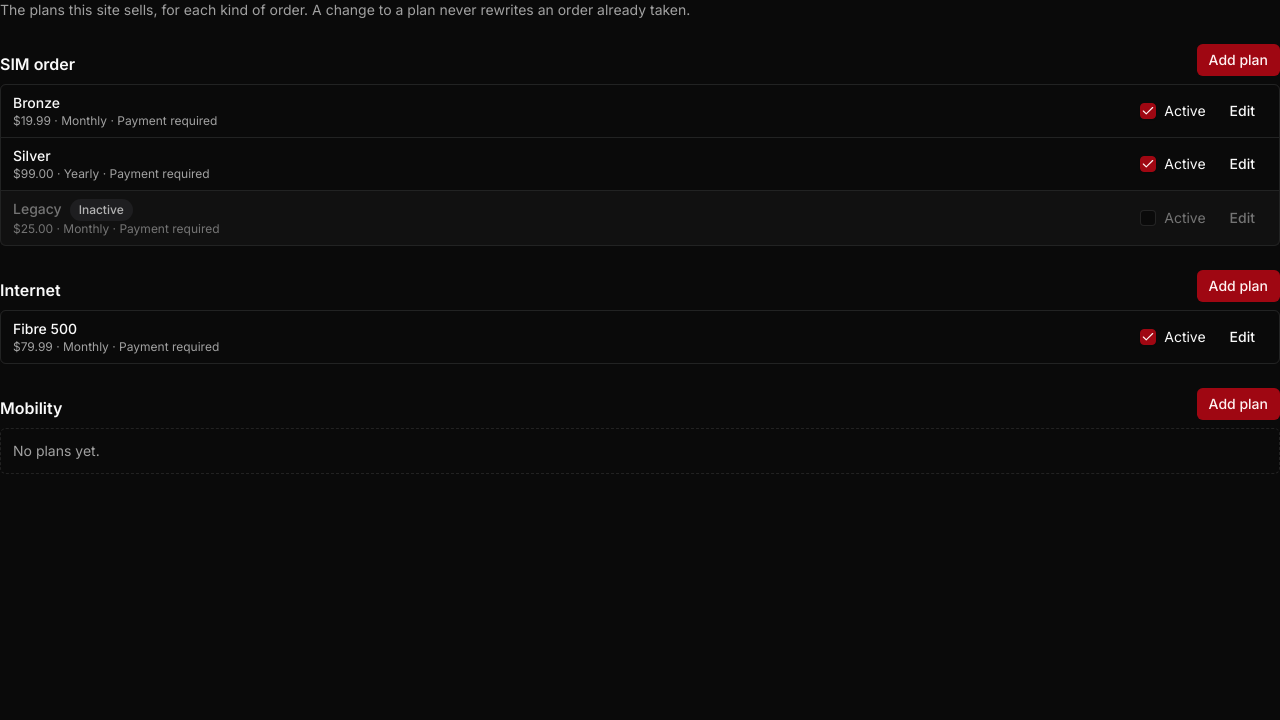
Test: PlansSettings writes › adds a plan for the type with the price in cents, then reloads
Expected: the list named "SIM order plans" is shown, [0, 84, 1279, 246]
Step 1. Click the button with aria-label "Add Internet plan" → (1238, 286), box [1197, 270, 1279, 302]
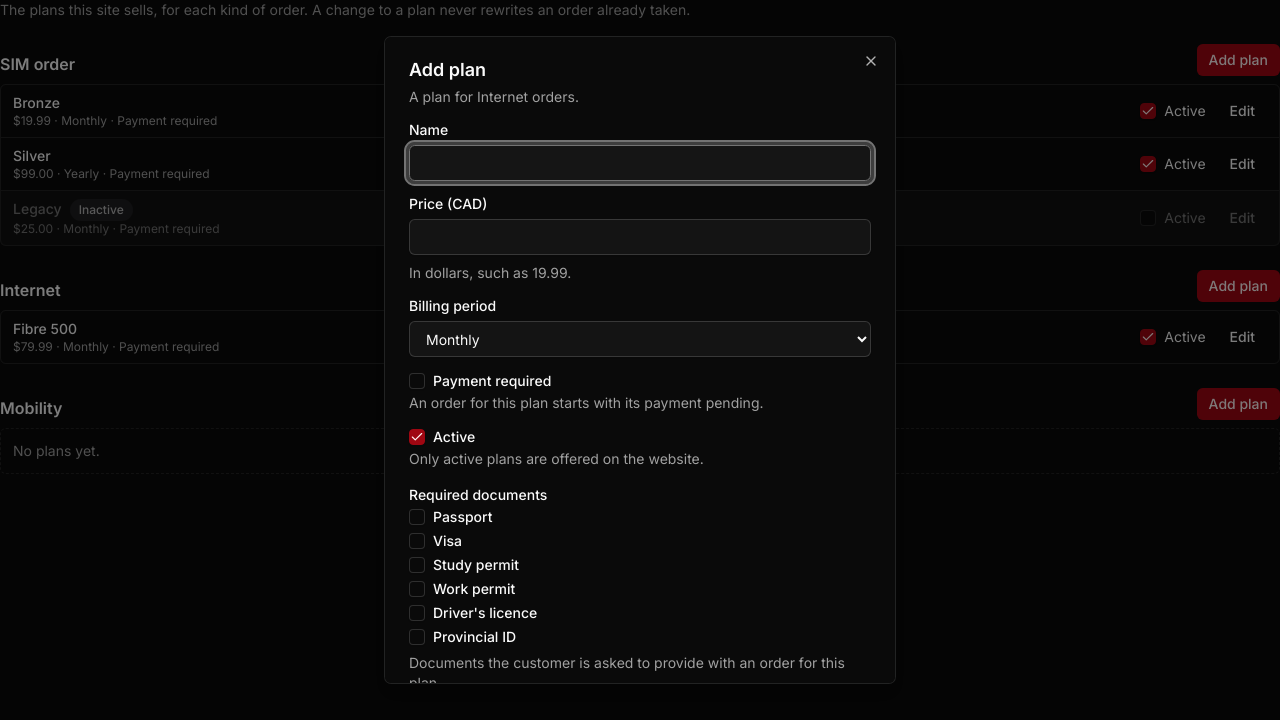
Step 2. Type "Fibre 1G" into the field labelled "Name" → (640, 163), box [409, 145, 871, 181]
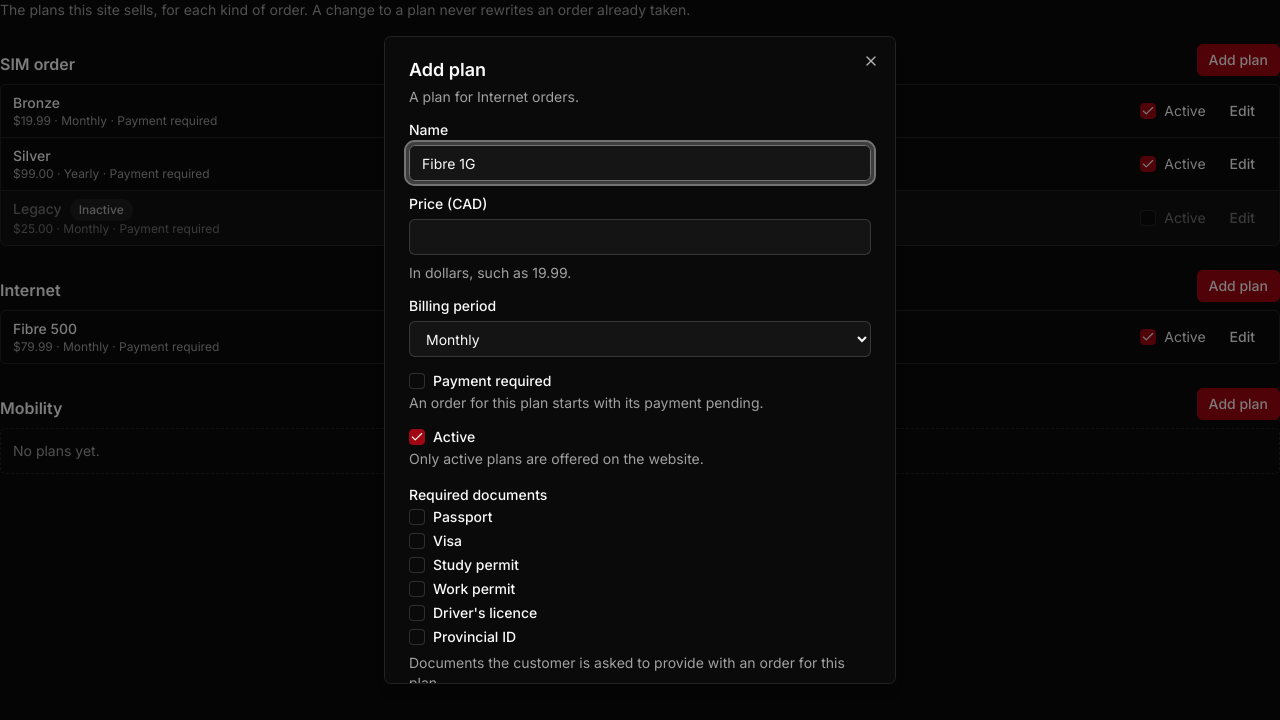
Step 3. Type "89.5" into the field labelled "Price (CAD)" → (640, 237), box [409, 219, 871, 255]
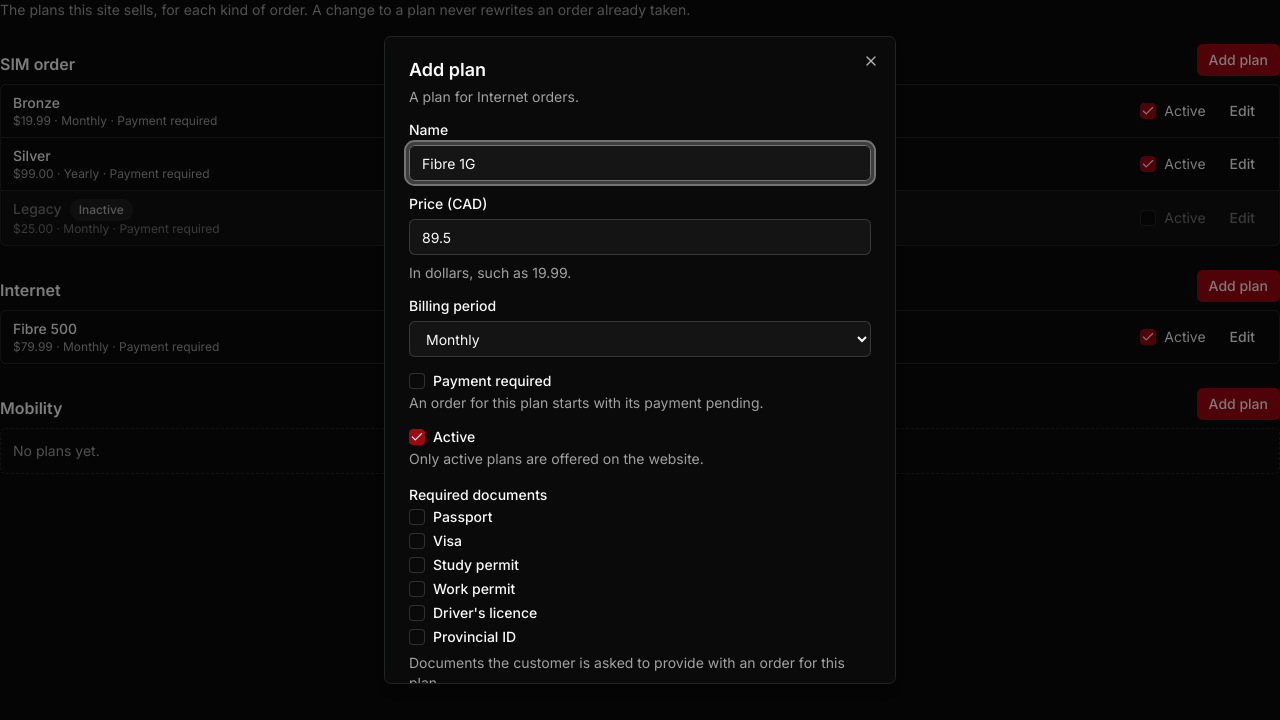
Step 4. Click the 1st checkbox named "Payment required" → (417, 381), box [409, 373, 425, 389]
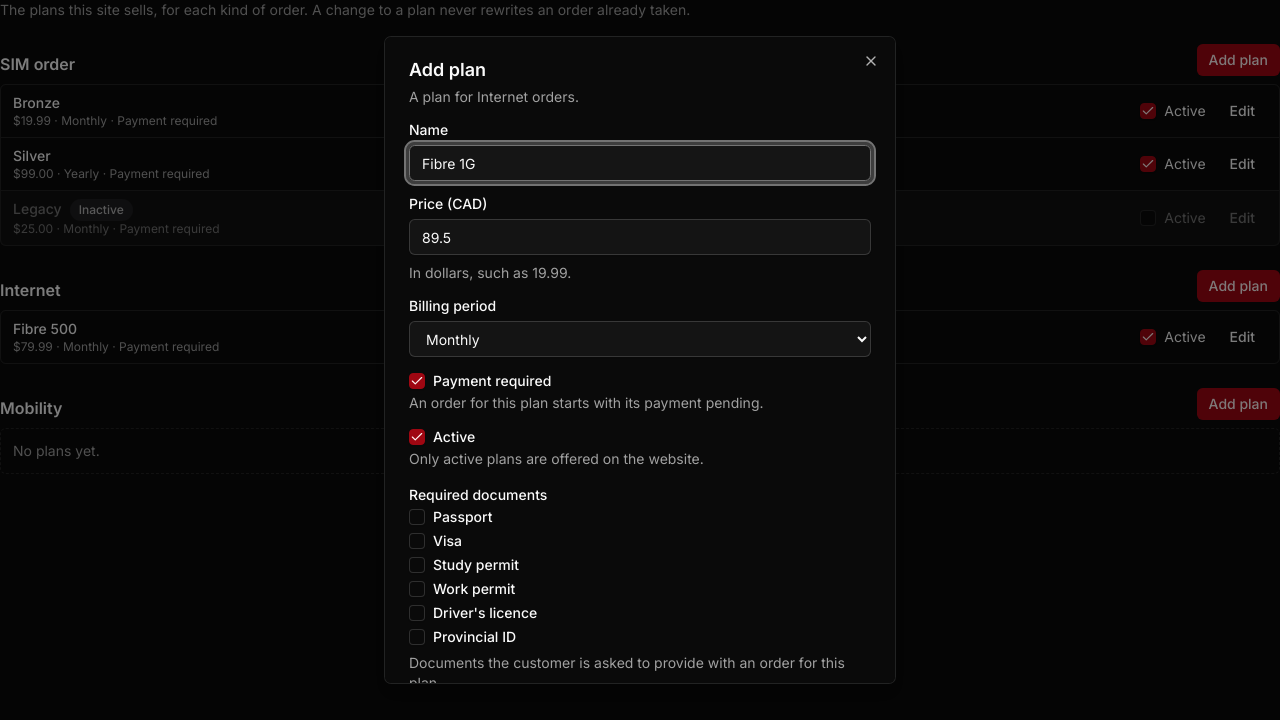
Step 5. Click the checkbox named "Provincial ID" next to "Provincial ID" → (417, 637), box [409, 629, 425, 645]
(page scrolled)
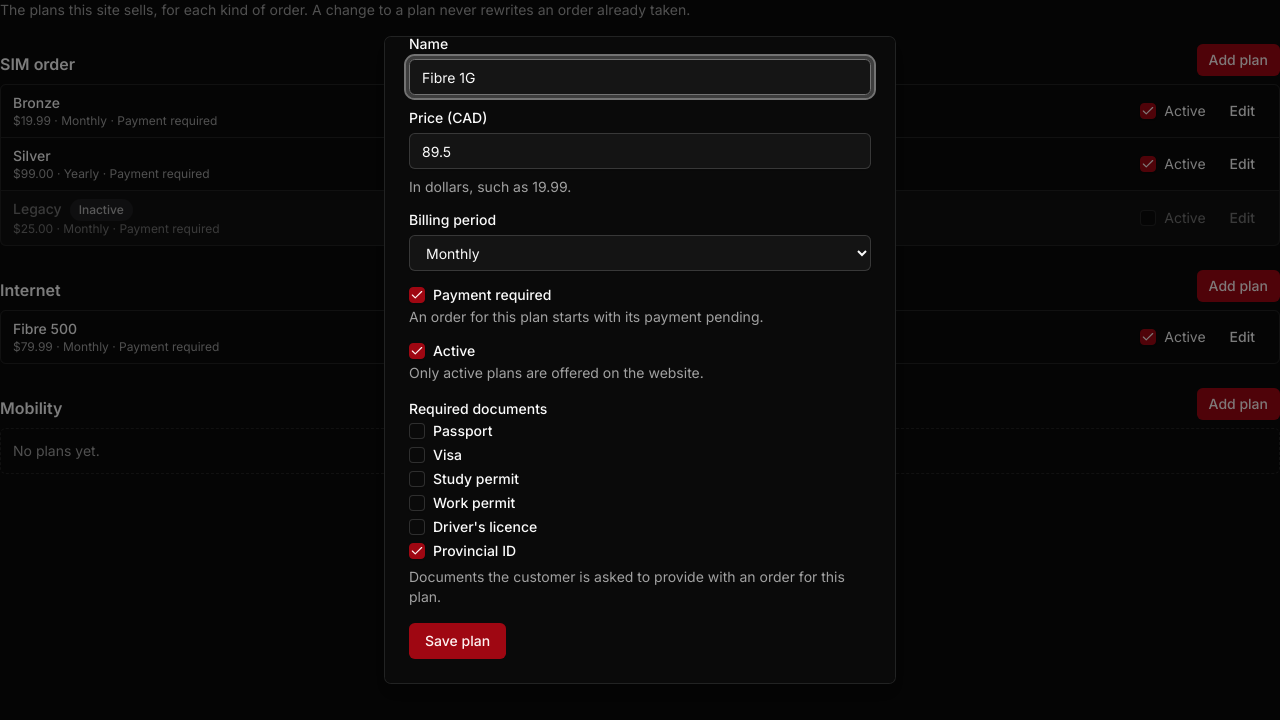
Step 6. Click the button "Save plan" → (458, 641), box [409, 623, 506, 659]
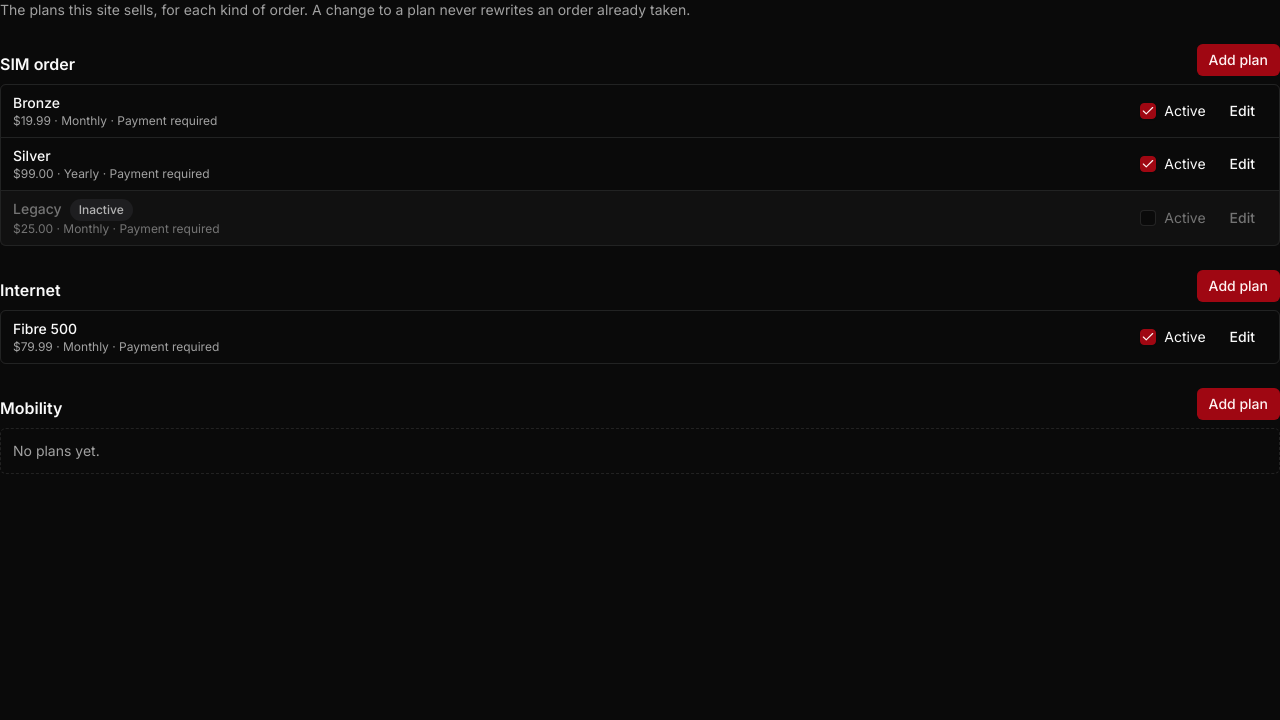
Expected: the dialog is gone
